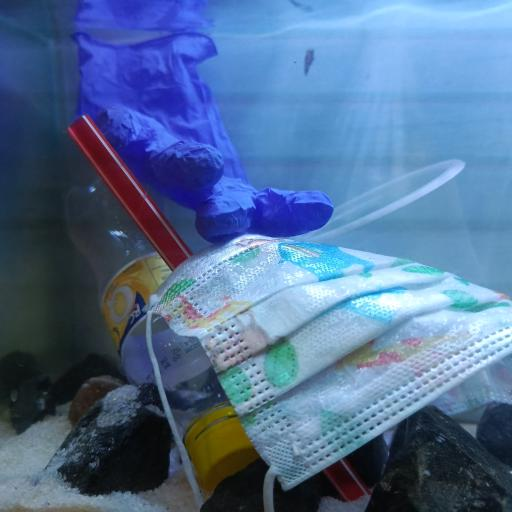bottle_cap: (192, 418, 260, 492)
glove: (75, 29, 334, 239)
mask: (140, 233, 512, 512)
plastic_bottle: (69, 178, 262, 494)
plastic_cup: (310, 159, 488, 287)
plastic_straw: (66, 112, 370, 500)
